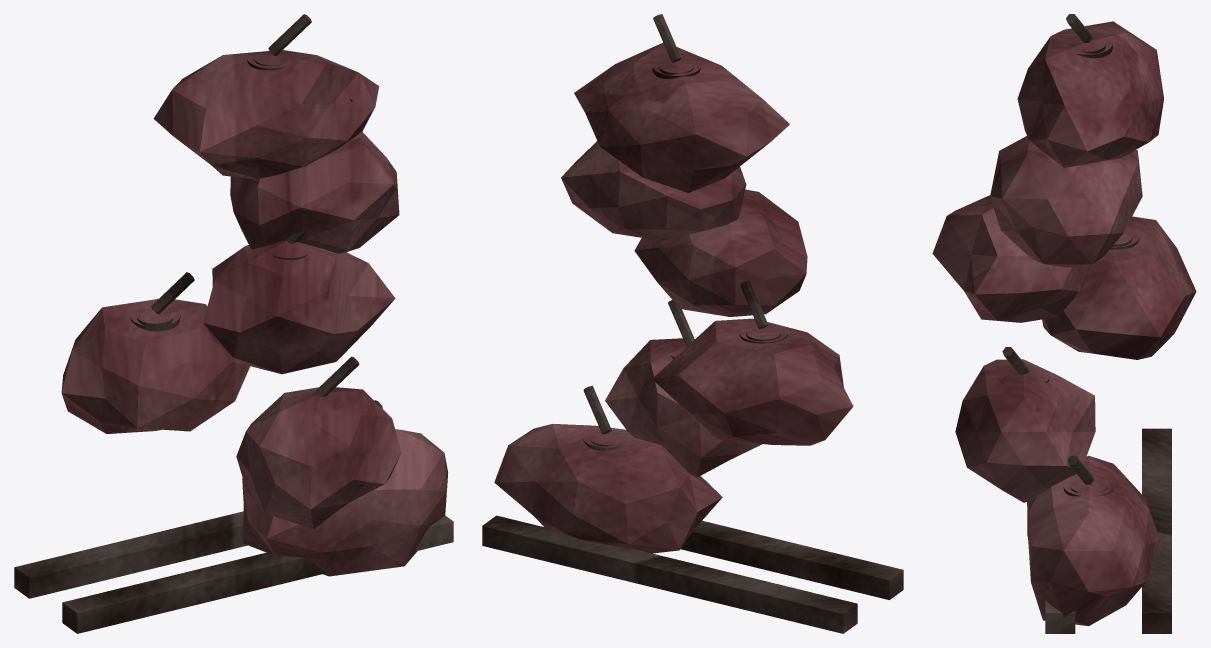
Rendered from 0820_sack_stack_20.glb.
3 views of the same model, side by side, from view 1: azimuth 30°, elevation 25°; view 2: azimuth 150°, elevation 25°; view 3: azimuth 270°, elevation 25° (orthographic). The views are drawn at different scales.
Parts seen in each view (by area): view 1: cloth, wood_dark; view 2: cloth, wood_dark; view 3: cloth, wood_dark.
Boxes of the visible parts, bbox=[...] form: cloth: bbox=[61, 50, 448, 576]; wood_dark: bbox=[14, 14, 453, 633]; cloth: bbox=[494, 43, 853, 553]; wood_dark: bbox=[482, 14, 903, 633]; cloth: bbox=[932, 21, 1196, 626]; wood_dark: bbox=[999, 14, 1171, 633].
Size of the model in its own units: 1.98 by 2.71 by 1.15.
Materials: 2 (2 with a texture image).
